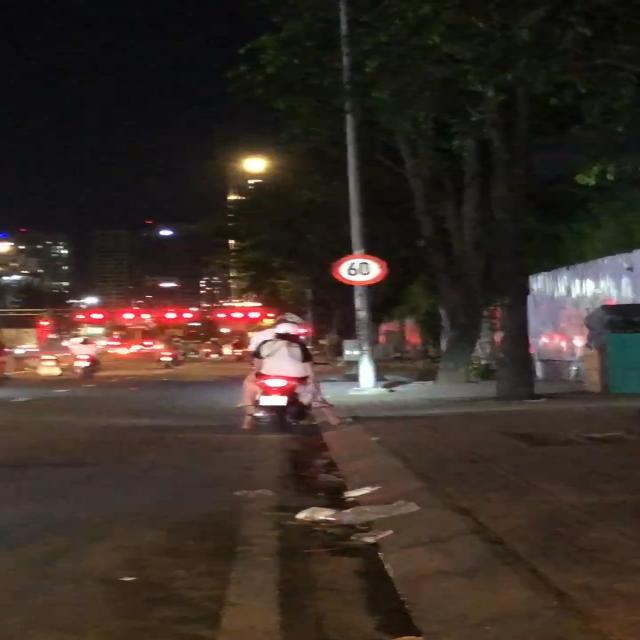Bien bao toc do toi da cho phep: (330, 252, 396, 292)
